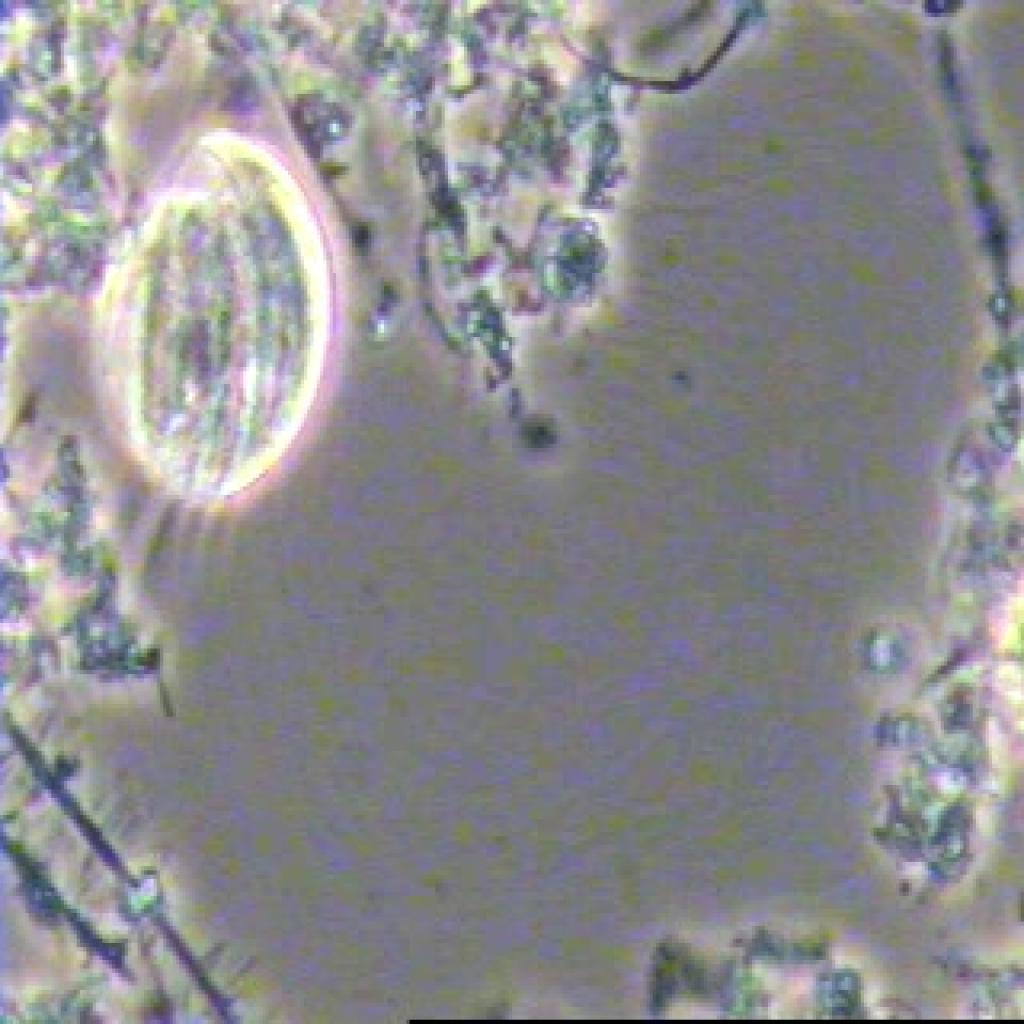Aspidisca: (92, 130, 362, 608)
